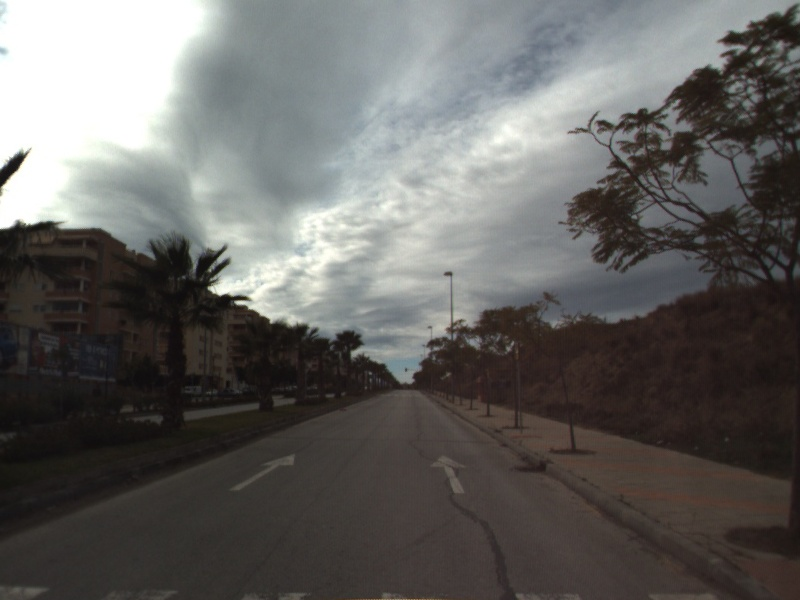STRAIGHT: (227, 451, 297, 493), (428, 453, 469, 495)
